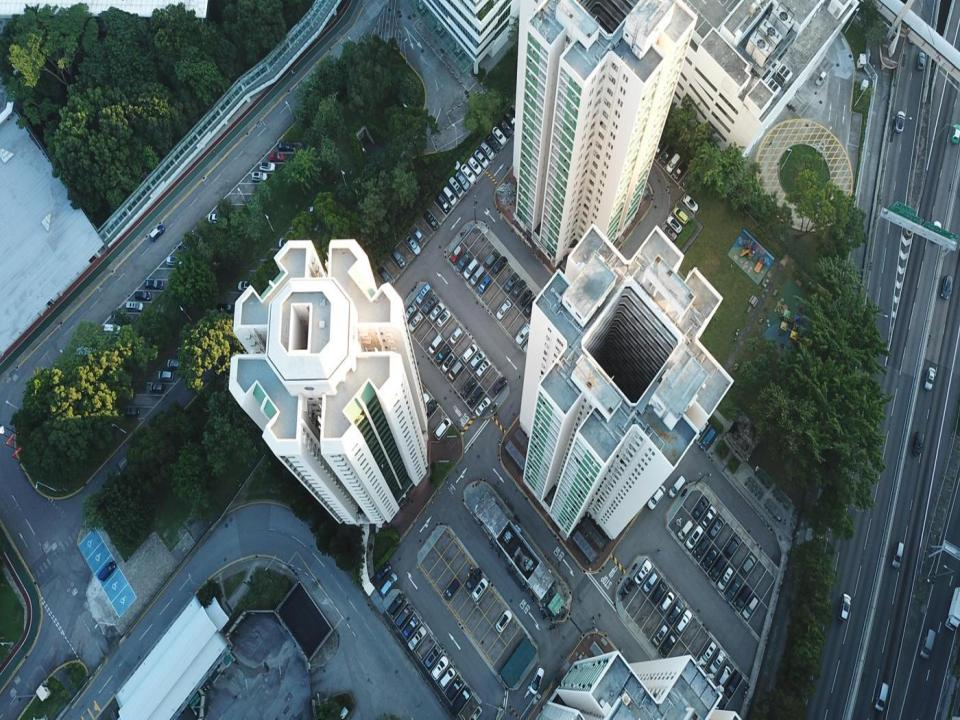car: (408, 625, 427, 651), (647, 484, 666, 510), (634, 559, 652, 585), (530, 667, 546, 694), (430, 656, 448, 680), (724, 672, 742, 696), (658, 632, 676, 655), (676, 608, 692, 633), (668, 600, 684, 624), (471, 576, 488, 598), (709, 650, 725, 673), (465, 568, 483, 588), (726, 578, 741, 602), (423, 292, 439, 314), (718, 566, 732, 591), (693, 496, 708, 519), (839, 593, 851, 620), (682, 194, 699, 213), (416, 284, 432, 304), (402, 617, 418, 637), (701, 506, 717, 526), (693, 538, 709, 558), (496, 299, 511, 320), (940, 276, 953, 300), (461, 162, 475, 184), (469, 386, 483, 408), (475, 397, 491, 416), (496, 611, 512, 630), (378, 266, 393, 286), (474, 149, 489, 169), (455, 252, 470, 272), (407, 312, 423, 330), (504, 272, 520, 290), (666, 215, 682, 233), (403, 304, 416, 326), (424, 210, 439, 229), (406, 236, 420, 256), (516, 324, 530, 344), (924, 367, 936, 390), (695, 418, 708, 439), (717, 666, 730, 687), (434, 346, 450, 363), (492, 126, 507, 144), (456, 171, 470, 190), (424, 398, 438, 417), (461, 379, 475, 398), (526, 296, 540, 315), (376, 561, 390, 580), (659, 145, 673, 164), (523, 334, 536, 354), (704, 548, 717, 568), (486, 134, 501, 151), (662, 223, 677, 240), (666, 154, 680, 172), (674, 207, 688, 225), (673, 162, 687, 180), (513, 279, 526, 298), (931, 220, 942, 242), (150, 224, 164, 241), (308, 204, 325, 218), (493, 256, 507, 273), (493, 376, 507, 393), (500, 120, 513, 138), (468, 156, 481, 174), (431, 302, 444, 319), (145, 278, 163, 290), (416, 393, 429, 409), (437, 310, 450, 326), (652, 139, 665, 155), (450, 327, 462, 344), (520, 291, 533, 306), (393, 251, 405, 267), (217, 302, 236, 312), (269, 150, 284, 162), (165, 256, 185, 265), (126, 300, 144, 310), (450, 244, 460, 262), (260, 161, 276, 172), (895, 112, 904, 131), (134, 290, 151, 300), (917, 50, 925, 71), (278, 236, 296, 245), (251, 171, 267, 181), (952, 124, 960, 144), (238, 280, 255, 289), (208, 213, 224, 222), (151, 381, 164, 392), (506, 114, 516, 128), (279, 141, 294, 150), (414, 229, 423, 240)
truck: (944, 587, 960, 632)
van: (920, 628, 936, 658), (734, 584, 753, 608), (453, 686, 471, 711), (874, 682, 888, 712), (686, 526, 703, 550), (709, 556, 726, 580), (700, 640, 717, 664), (97, 560, 116, 581), (434, 418, 452, 440), (442, 578, 460, 600), (668, 475, 685, 498), (380, 573, 396, 597), (390, 593, 406, 617), (425, 645, 441, 669), (742, 597, 758, 621), (708, 516, 726, 537), (396, 604, 412, 627), (652, 580, 668, 603), (462, 257, 479, 278), (439, 667, 455, 689), (698, 429, 714, 450), (642, 572, 657, 594), (726, 536, 742, 556), (449, 176, 464, 197), (890, 542, 903, 566), (470, 266, 486, 285), (475, 359, 490, 379), (741, 554, 756, 574), (660, 591, 674, 612), (469, 350, 486, 367), (428, 334, 442, 354), (447, 680, 461, 700), (77, 346, 100, 358), (653, 625, 668, 643), (443, 186, 457, 205), (678, 520, 692, 539), (101, 322, 123, 334), (114, 457, 127, 477), (449, 360, 462, 380), (477, 277, 492, 294), (436, 195, 450, 213), (462, 343, 476, 361), (479, 142, 494, 158), (914, 430, 924, 454), (486, 250, 499, 267), (158, 370, 174, 382), (442, 354, 454, 370), (124, 406, 140, 417), (166, 358, 182, 369)
